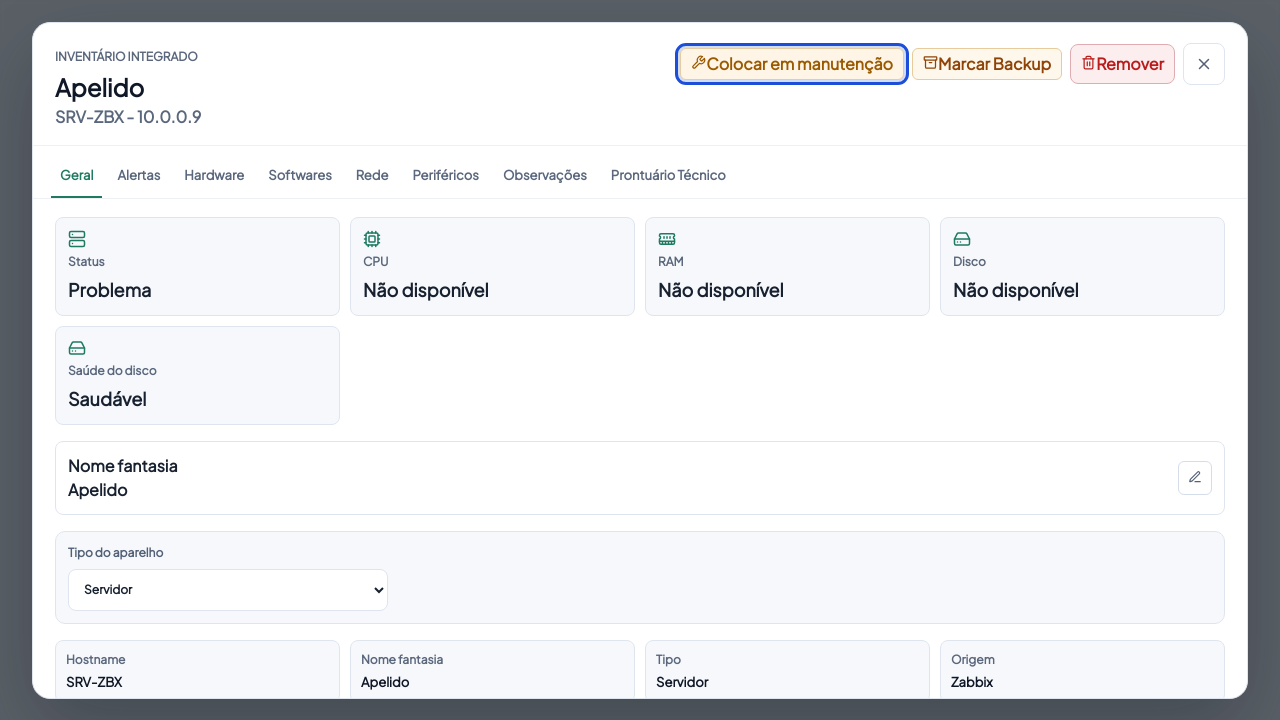
Test: MachineDetailsModal — demais abas › mostra alerta genérico quando só o status é problema
Click the button "Alertas". click: point(139, 177)
box: [108,156,169,198]
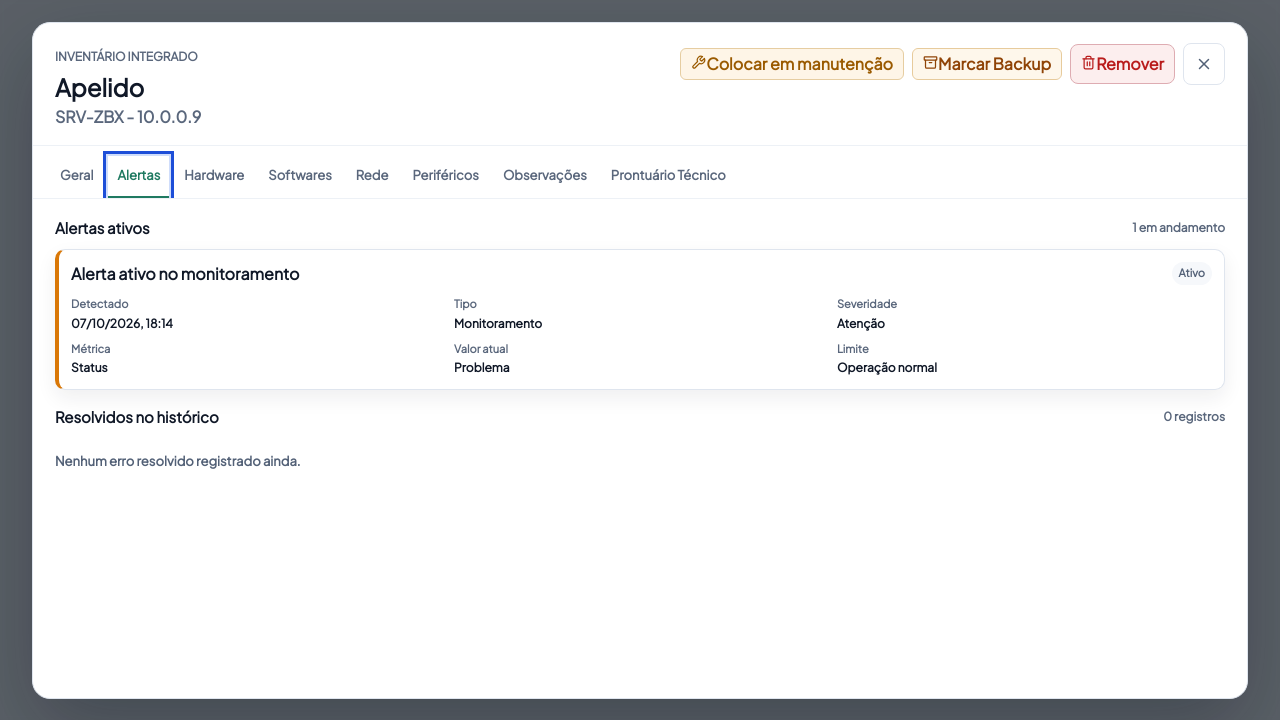
Result: the text "Alerta ativo no monitoramento" is shown at [71,262,300,286]
Result: the text "Nenhum erro resolvido registrado ainda." is shown at [55,452,301,468]
